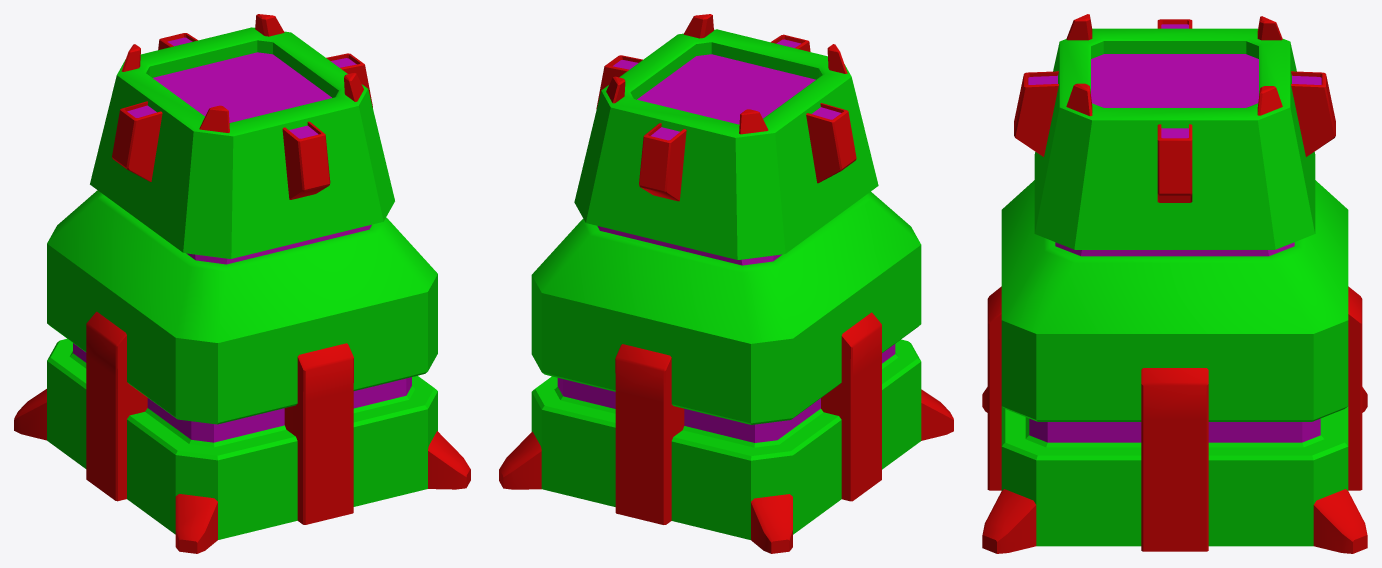
The model's file is MeCollectibleProjecteurHolgraphique_V2.FBX.
The picture shows the model from 3 angles, left to right: view 1: azimuth 30°, elevation 25°; view 2: azimuth 150°, elevation 25°; view 3: azimuth 270°, elevation 25°; orthographic projection. The views are drawn at different scales.
Visible parts, largest first — view 1: pillier; view 2: pillier; view 3: pillier.
Boxes of the visible parts, <box> form: pillier: <box>14,14,470,553</box>; pillier: <box>499,14,953,553</box>; pillier: <box>982,14,1367,553</box>.
Size of the model in its own units: 42.35 by 44.99 by 54.84.
